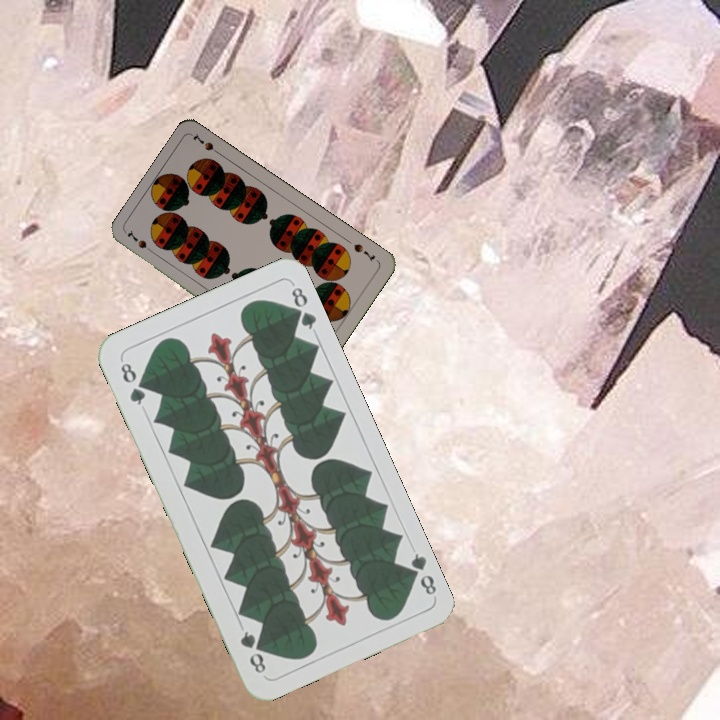G8: (401, 549, 440, 600), (116, 356, 148, 408)
S7: (350, 239, 378, 264), (133, 236, 158, 257)
